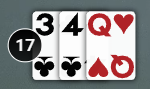3: (30, 8, 59, 38)
4: (56, 7, 86, 38)
q: (84, 8, 114, 40)
